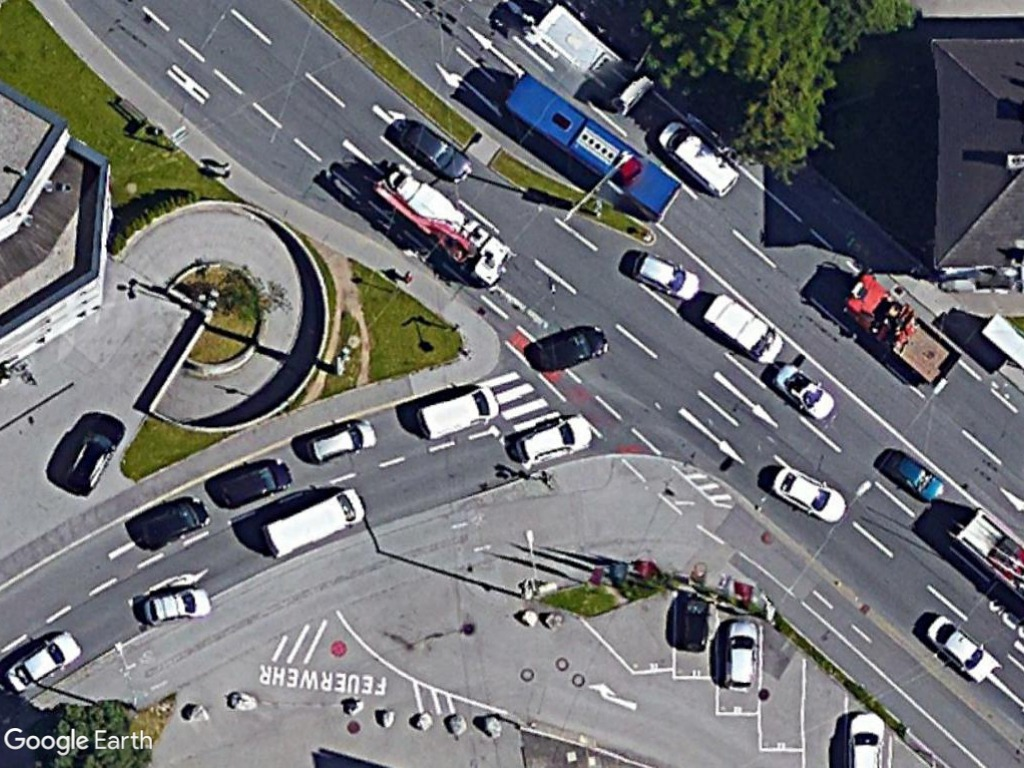bus: (496, 73, 683, 226)
car: (55, 407, 124, 499), (919, 608, 999, 686), (395, 114, 477, 188), (2, 623, 84, 696), (768, 457, 852, 528), (509, 408, 594, 469), (525, 318, 610, 376), (298, 412, 380, 470), (628, 244, 704, 305), (878, 444, 948, 508), (134, 579, 213, 628), (720, 614, 762, 699)
van: (258, 483, 369, 563), (651, 118, 745, 199), (697, 286, 789, 368), (413, 378, 503, 446)
